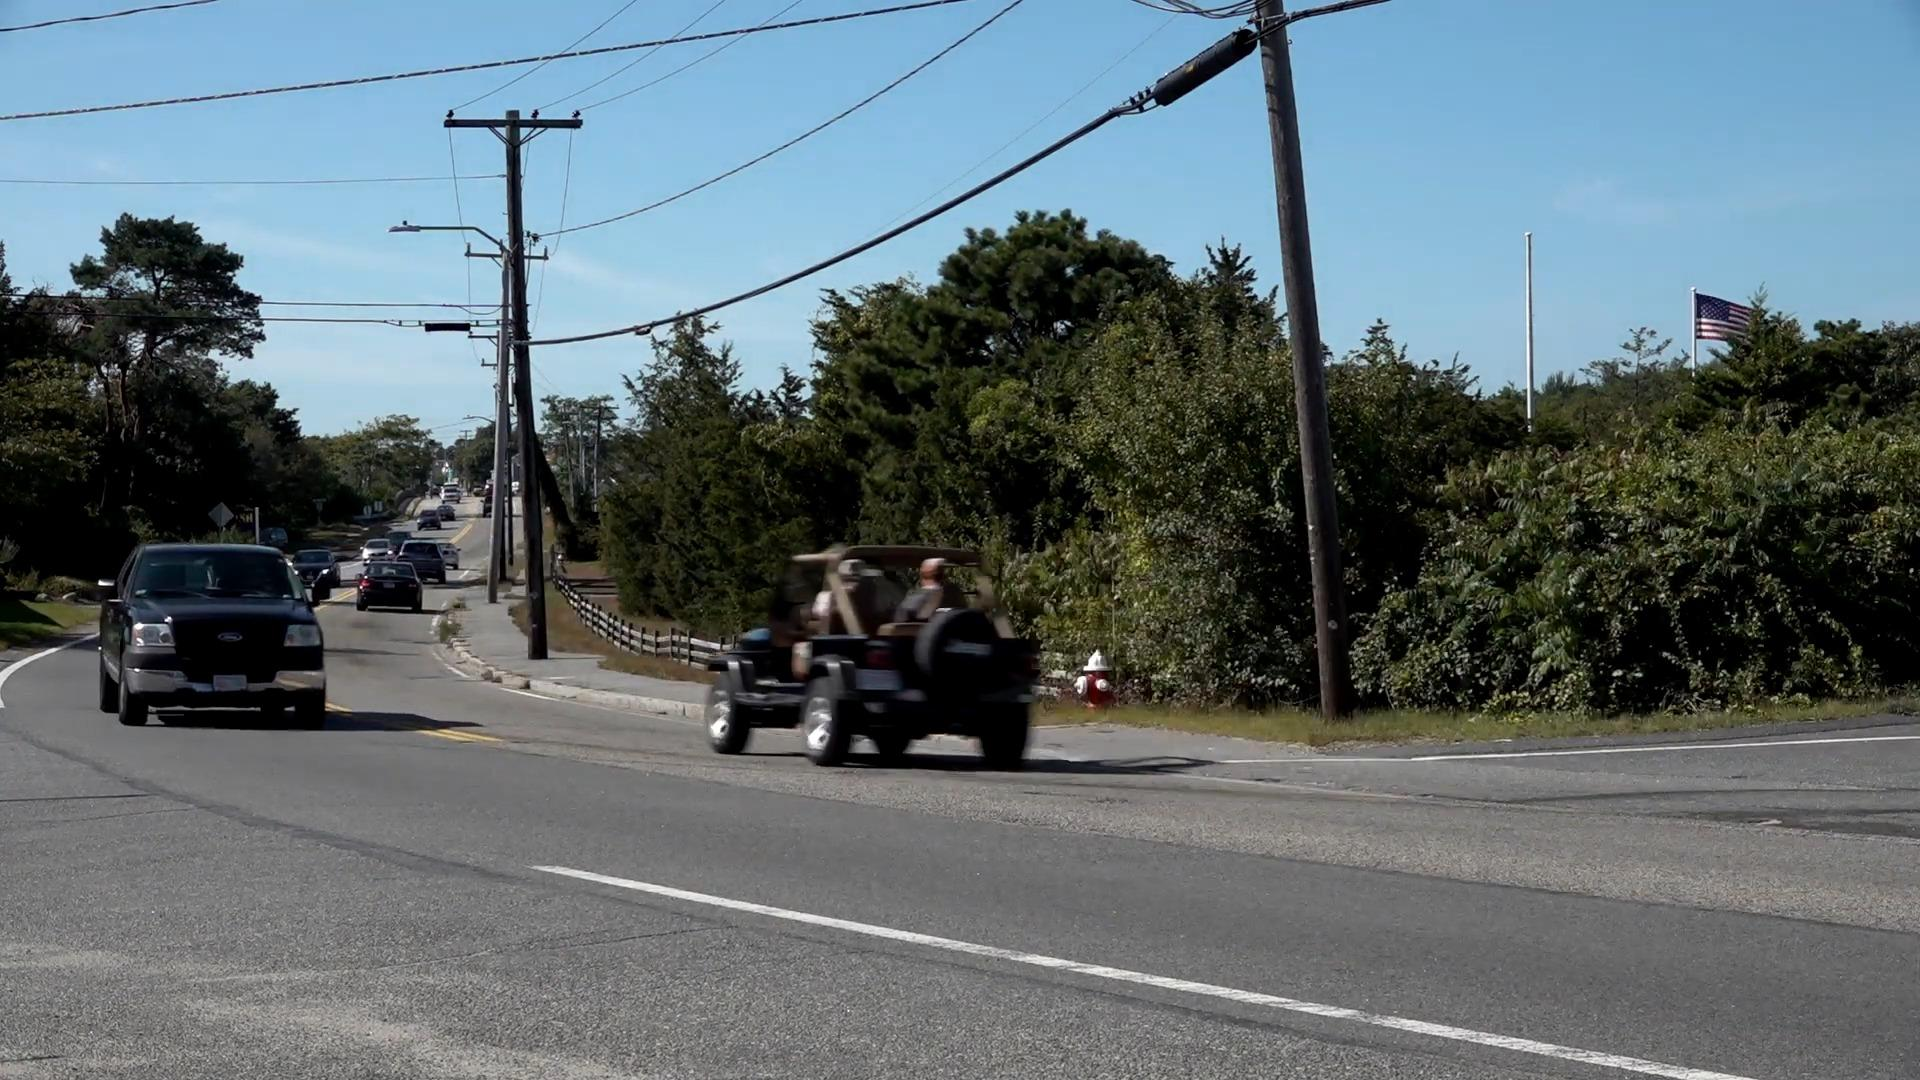pickup: (98, 542, 331, 736)
sedans: (355, 560, 426, 616)
suv: (702, 543, 1048, 774)
